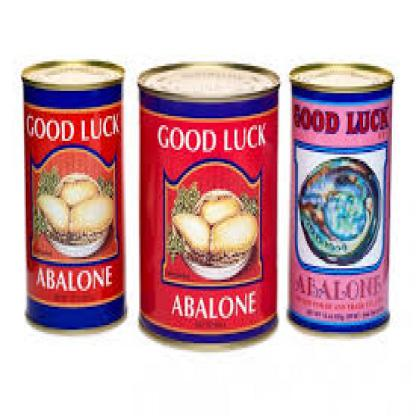METAL: (136, 62, 278, 352), (20, 57, 124, 330), (289, 59, 389, 330)
